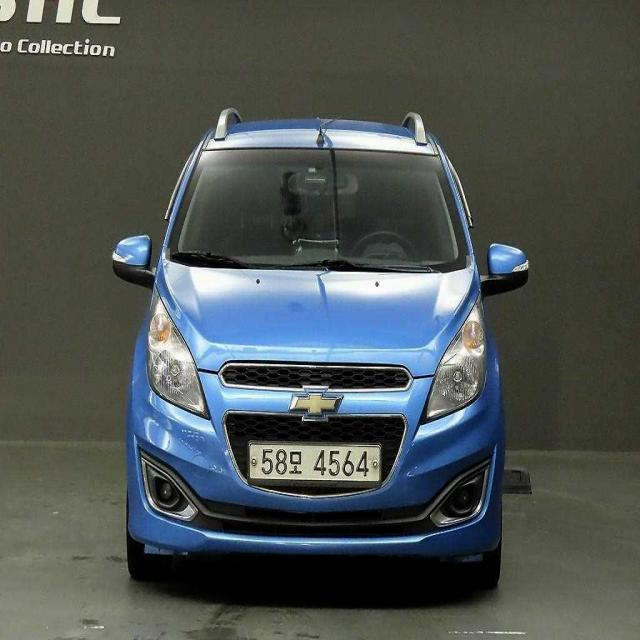car: (94, 99, 553, 600)
illegal_plate: (248, 437, 382, 490)
